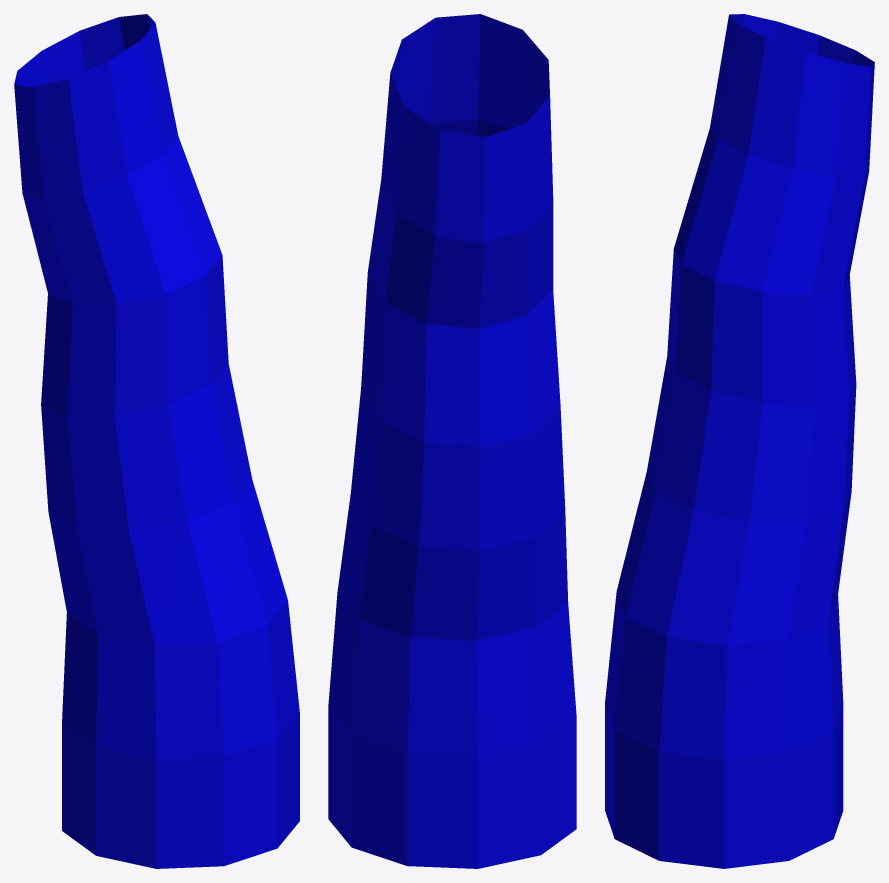
3 views of the same model, side by side, from view 1: azimuth 30°, elevation 25°; view 2: azimuth 150°, elevation 25°; view 3: azimuth 270°, elevation 25° (orthographic). The views are drawn at different scales.
Visible parts, largest first — view 1: Cube; view 2: Cube; view 3: Cube.
Part boxes in pixels (x1,y1,x2,y2): Cube: (14,14,299,868); Cube: (328,14,576,868); Cube: (605,14,874,868).
Size of the model in its own units: 2.14 by 7.15 by 2.24.
